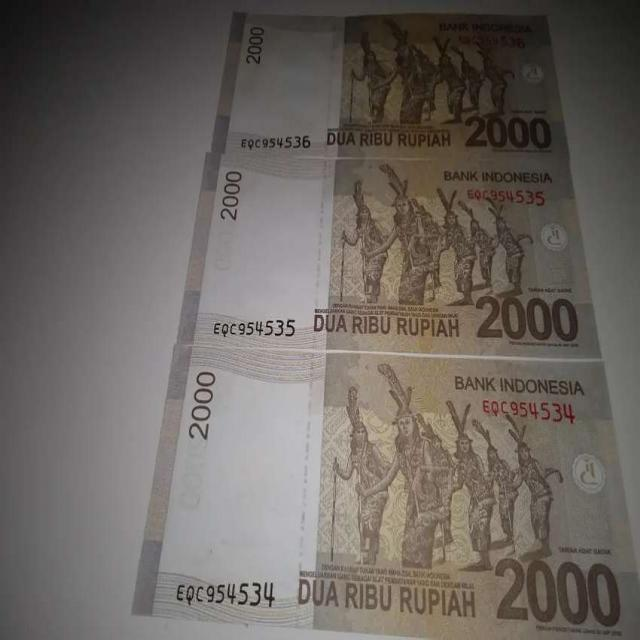dua ribu rupiah: (171, 346, 626, 627), (205, 152, 591, 361), (235, 13, 562, 164), (338, 374, 547, 566), (346, 161, 528, 313), (355, 41, 507, 118), (495, 551, 620, 630), (472, 282, 578, 338), (462, 105, 557, 151)
